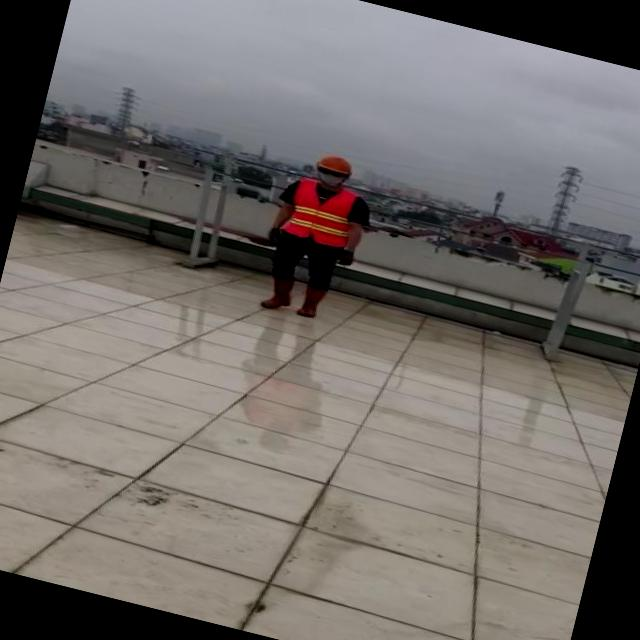boots: (258, 272, 299, 312), (296, 282, 332, 322)
gloves: (258, 216, 298, 252), (332, 238, 361, 274)
helmet: (314, 150, 359, 178)
vest: (282, 178, 358, 248)
